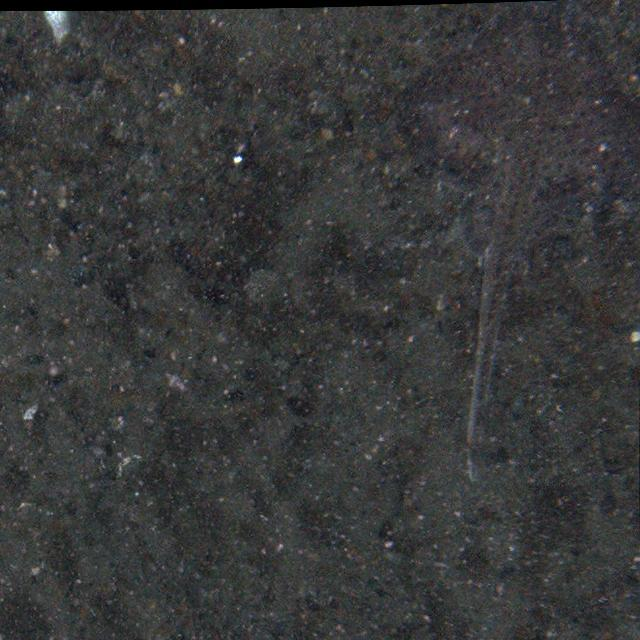skate: (393, 0, 640, 488)
